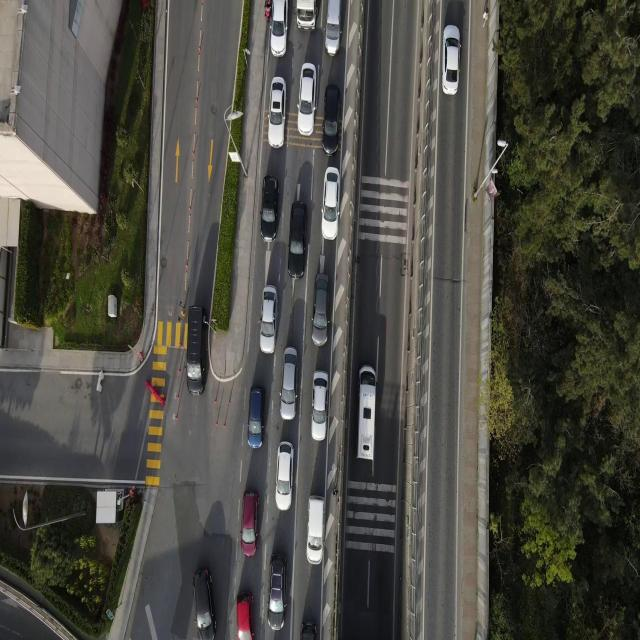p3rson: (483, 7, 489, 27), (332, 487, 338, 496)
